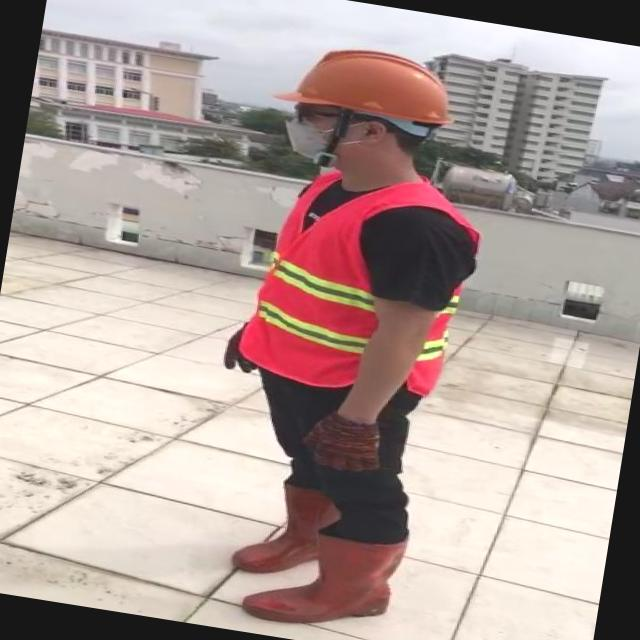boots: (238, 515, 409, 640), (226, 474, 334, 581)
gloves: (287, 398, 406, 482)
helmet: (264, 31, 474, 137)
vest: (237, 165, 478, 402)
